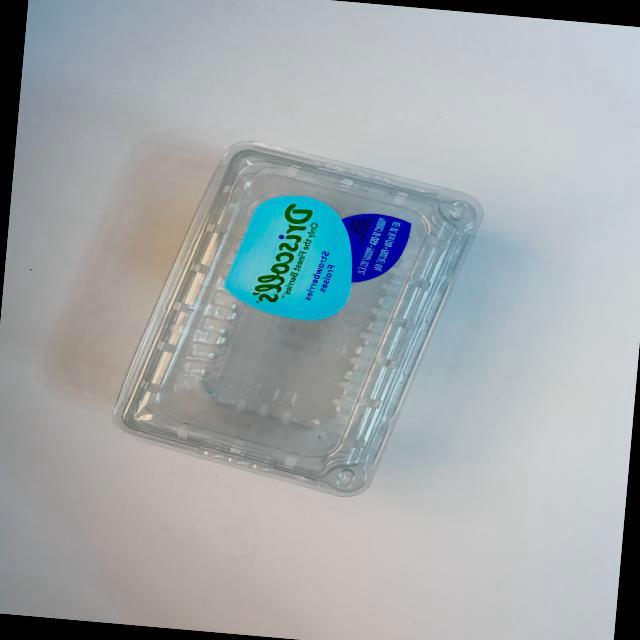plastic: (52, 115, 506, 517)
